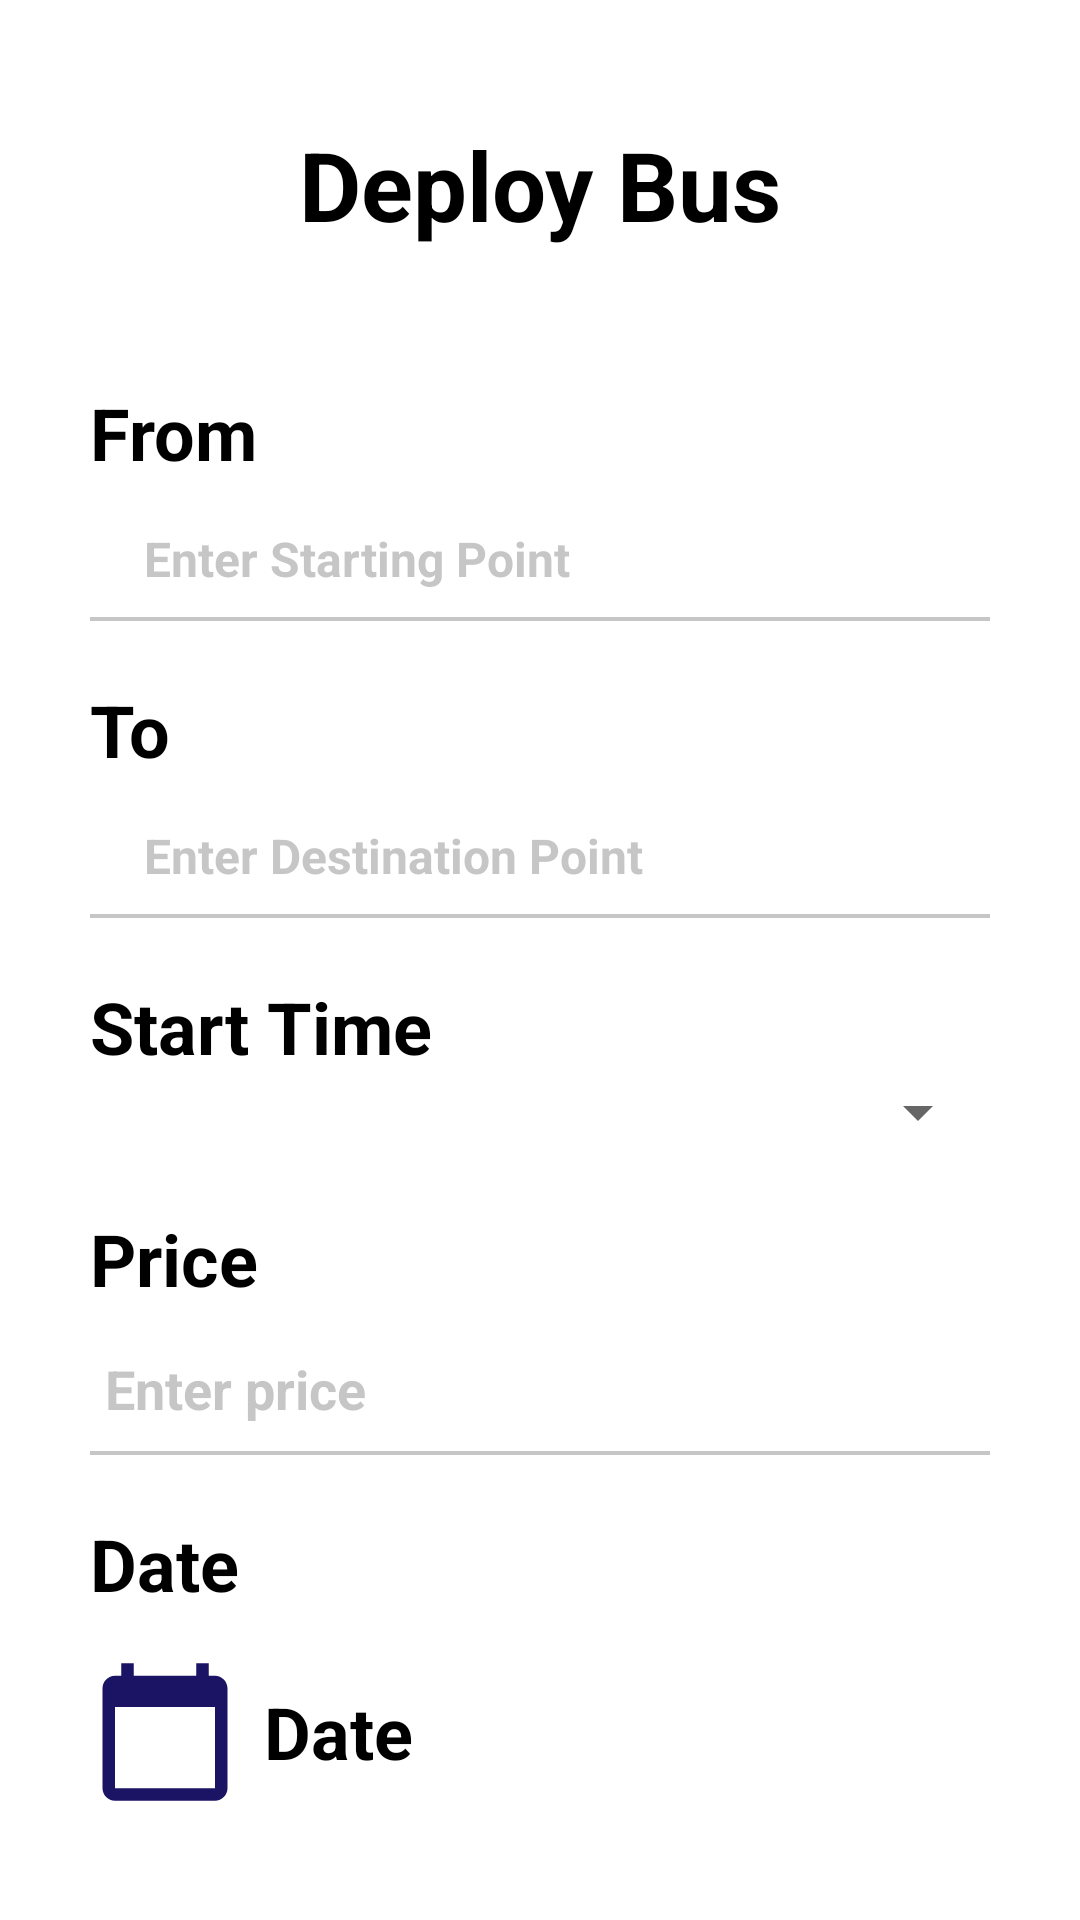

Locate icon controls on the screen. Image size 1080*1920, boxes as (x1, y1, x2, y2).
calendar: (102, 1663, 228, 1801)
